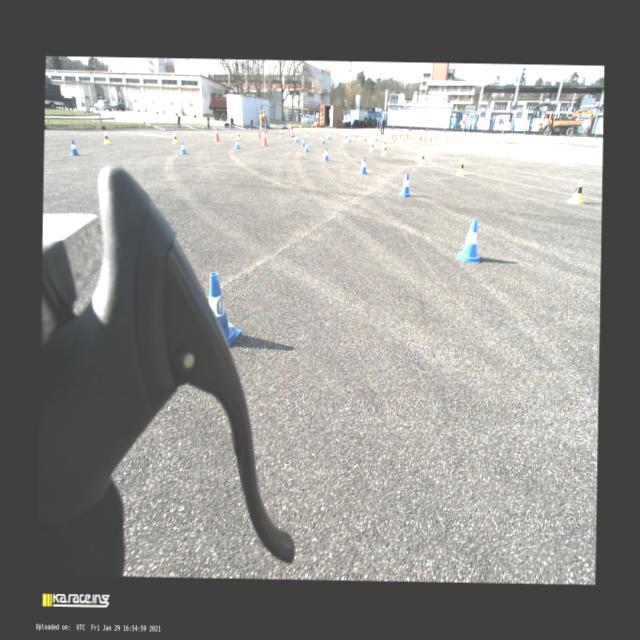blue_cone: (202, 272, 242, 346), (457, 218, 480, 262), (398, 172, 412, 196), (70, 138, 80, 156), (358, 156, 367, 173), (180, 141, 188, 154), (322, 146, 329, 160), (304, 140, 310, 152), (234, 138, 240, 148), (294, 133, 298, 142), (301, 137, 305, 146), (320, 136, 324, 144), (347, 134, 351, 142), (354, 130, 358, 136), (326, 132, 329, 139), (363, 134, 366, 141), (344, 132, 347, 138), (374, 134, 377, 140), (329, 132, 332, 138), (387, 134, 390, 140)
large_orange_cone: (213, 126, 220, 141), (262, 130, 268, 146)
orange_cone: (419, 133, 422, 139), (391, 132, 393, 140), (394, 132, 396, 140), (398, 132, 400, 140), (418, 134, 420, 142), (424, 134, 426, 142), (429, 135, 431, 141), (434, 134, 436, 140), (406, 133, 408, 138)
yellow_cone: (566, 178, 584, 204), (455, 157, 464, 175), (102, 130, 110, 144), (418, 150, 424, 164), (172, 132, 178, 144), (368, 141, 374, 151), (381, 144, 386, 155), (381, 138, 386, 148), (236, 130, 240, 140), (391, 138, 395, 146), (258, 108, 262, 115), (278, 130, 281, 138), (304, 130, 308, 136), (411, 135, 414, 142), (262, 108, 265, 114), (402, 136, 404, 144), (308, 130, 310, 136), (324, 130, 326, 134)
